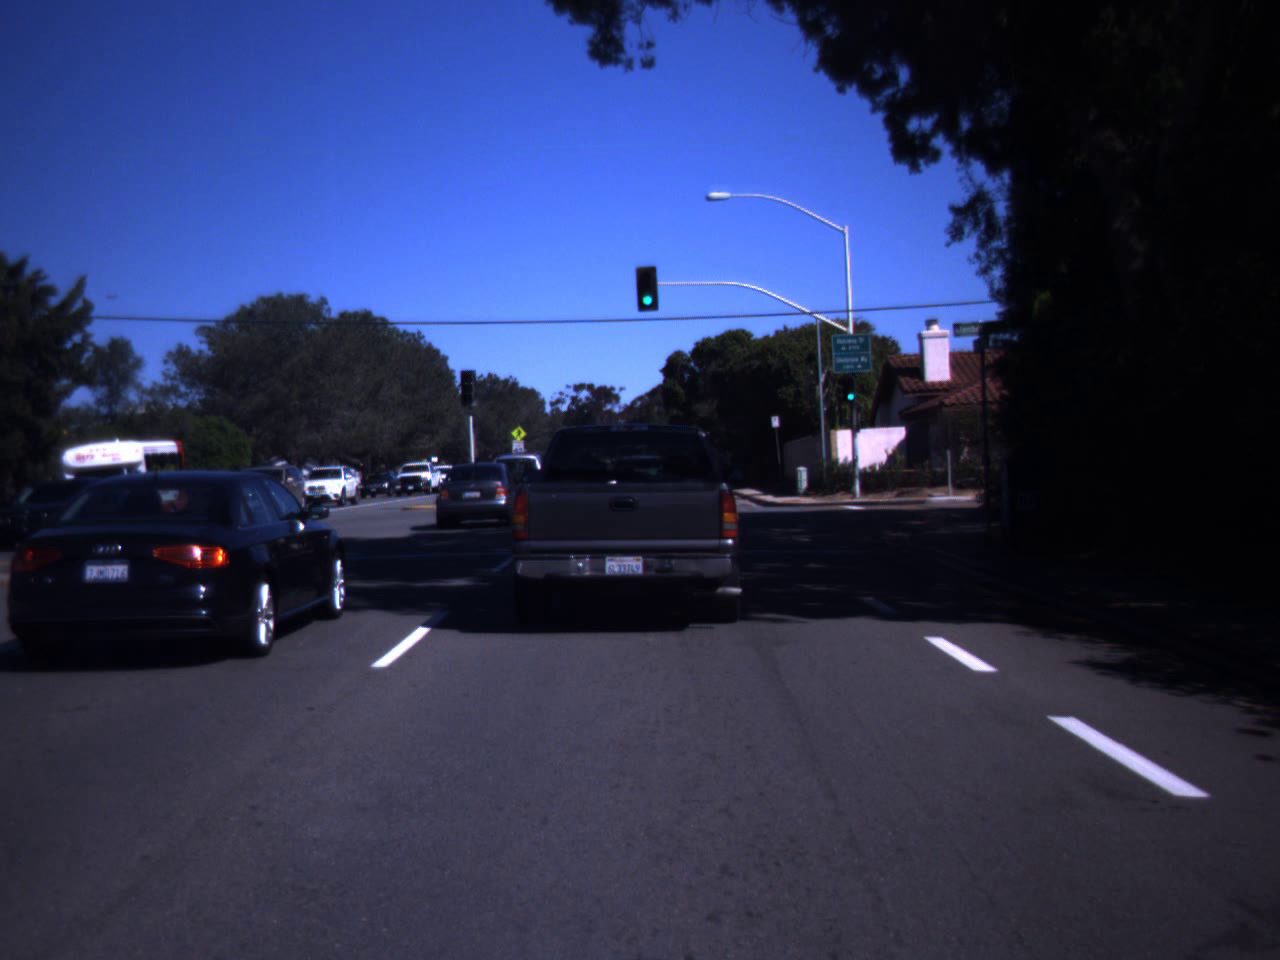go: (637, 272, 658, 307), (843, 376, 858, 401)
